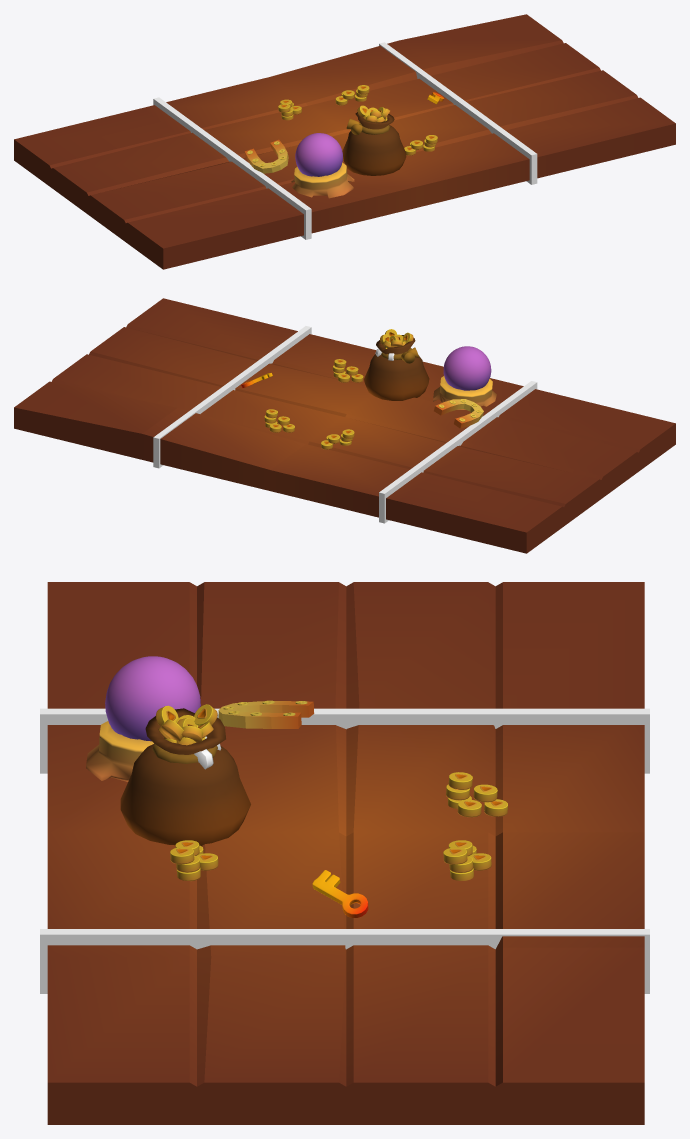
Rendered from стол с говном .fbx.
3 views of the same model, one above another, from view 1: azimuth 30°, elevation 25°; view 2: azimuth 150°, elevation 25°; view 3: azimuth 270°, elevation 25° (orthographic). The views are drawn at different scales.
Parts seen in each view (by area): view 1: Cube.009, Cube.017, Cylinder.012, Sphere.003, Cylinder.006, Cube.006, Cylinder.027, Cylinder.003, Cylinder.009; view 2: Cube.009, Cube.017, Cylinder.012, Sphere.003, Cylinder.006, Cube.006, Cylinder.009, Cylinder.003, Cylinder.027, Cylinder.004; view 3: Cube.009, Cube.017, Cylinder.012, Sphere.003, Cube.006, Cylinder.006, Cylinder.004, Cylinder.027, Cylinder.009, Cylinder.003, Cylinder.007.
Part boxes in pixels (x1=…): Cube.009: x1=14, y1=14, x2=675, y2=269; Cube.017: x1=153, y1=42, x2=537, y2=239; Cylinder.012: x1=342, y1=112, x2=406, y2=175; Sphere.003: x1=295, y1=133, x2=342, y2=176; Cylinder.006: x1=291, y1=162, x2=354, y2=198; Cube.006: x1=244, y1=139, x2=288, y2=173; Cylinder.027: x1=357, y1=105, x2=390, y2=122; Cylinder.003: x1=335, y1=85, x2=369, y2=105; Cylinder.009: x1=404, y1=135, x2=437, y2=155; Cube.009: x1=14, y1=298, x2=675, y2=553; Cube.017: x1=153, y1=326, x2=537, y2=523; Cylinder.012: x1=364, y1=335, x2=429, y2=400; Sphere.003: x1=443, y1=346, x2=491, y2=390; Cylinder.006: x1=433, y1=376, x2=496, y2=409; Cube.006: x1=434, y1=399, x2=483, y2=428; Cylinder.009: x1=333, y1=359, x2=363, y2=382; Cylinder.003: x1=264, y1=409, x2=294, y2=432; Cylinder.027: x1=380, y1=329, x2=413, y2=348; Cylinder.004: x1=321, y1=429, x2=354, y2=449; Cube.009: x1=47, y1=582, x2=644, y2=1124; Cube.017: x1=40, y1=708, x2=649, y2=993; Cylinder.012: x1=120, y1=708, x2=250, y2=845; Sphere.003: x1=105, y1=656, x2=200, y2=741; Cube.006: x1=218, y1=700, x2=314, y2=728; Cylinder.006: x1=86, y1=721, x2=153, y2=781; Cylinder.004: x1=446, y1=772, x2=507, y2=817; Cylinder.027: x1=156, y1=704, x2=217, y2=745; Cylinder.009: x1=170, y1=840, x2=218, y2=881; Cylinder.003: x1=443, y1=840, x2=491, y2=880; Cylinder.007: x1=312, y1=870, x2=368, y2=917.
Bounding box in the file's own units: 2170 × 585 × 1118.
